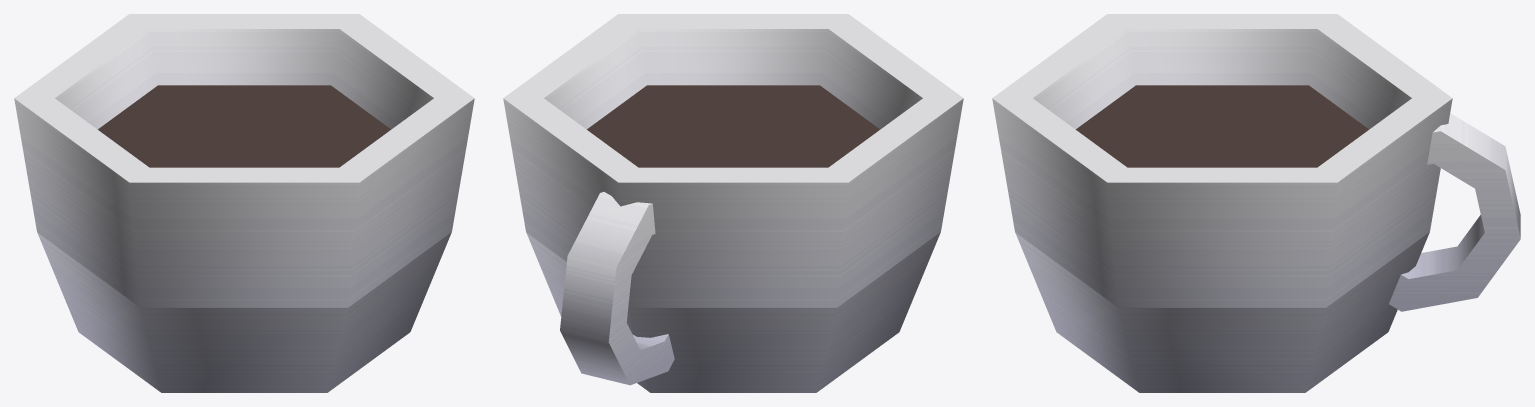
Rendered from kf_cup-coffee.glb.
3 renders of one model, left to right at view 1: azimuth 30°, elevation 25°; view 2: azimuth 150°, elevation 25°; view 3: azimuth 270°, elevation 25°, orthographic.
Visible parts, largest first — view 1: cup-coffee; view 2: cup-coffee; view 3: cup-coffee.
Boxes of the visible parts, x1=… form: cup-coffee: x1=14, y1=14, x2=474, y2=392; cup-coffee: x1=503, y1=14, x2=963, y2=392; cup-coffee: x1=992, y1=14, x2=1520, y2=392.
Size of the model in its own units: 0.063 by 0.0408 by 0.0836.
Materials: 1 (1 with a texture image).
